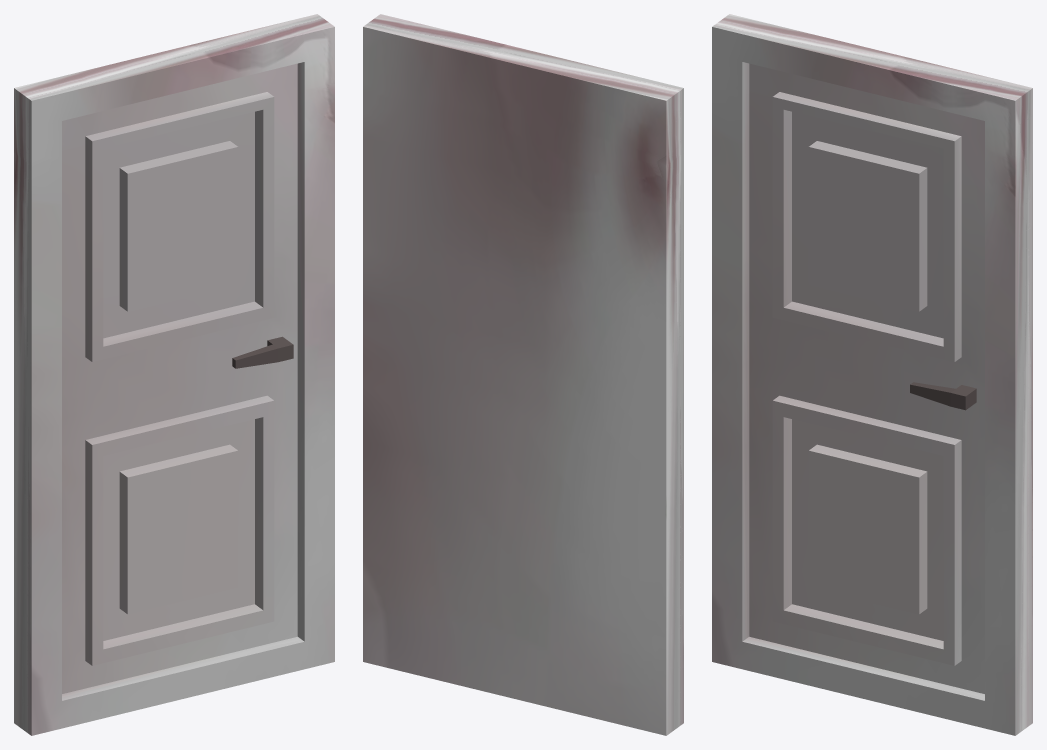
The model's file is Puerta_14.fbx.
3 views of the same model, side by side, from view 1: azimuth 30°, elevation 25°; view 2: azimuth 150°, elevation 25°; view 3: azimuth 330°, elevation 25° (orthographic).
Parts seen in each view (by area): view 1: Cube.014; view 2: Cube.014; view 3: Cube.014.
Part boxes in pixels (x1=…): Cube.014: x1=14, y1=14, x2=334, y2=735; Cube.014: x1=363, y1=14, x2=683, y2=735; Cube.014: x1=712, y1=14, x2=1032, y2=735.
Bounding box in the file's own units: 200 × 400 × 24.74.
